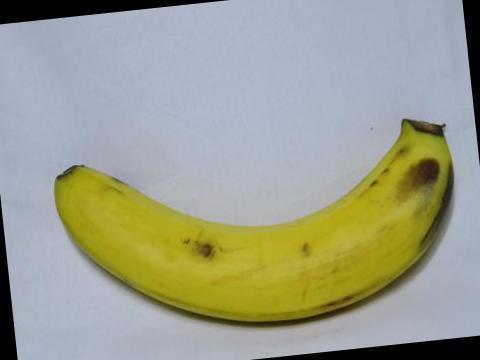freshripe: (39, 98, 467, 342)
